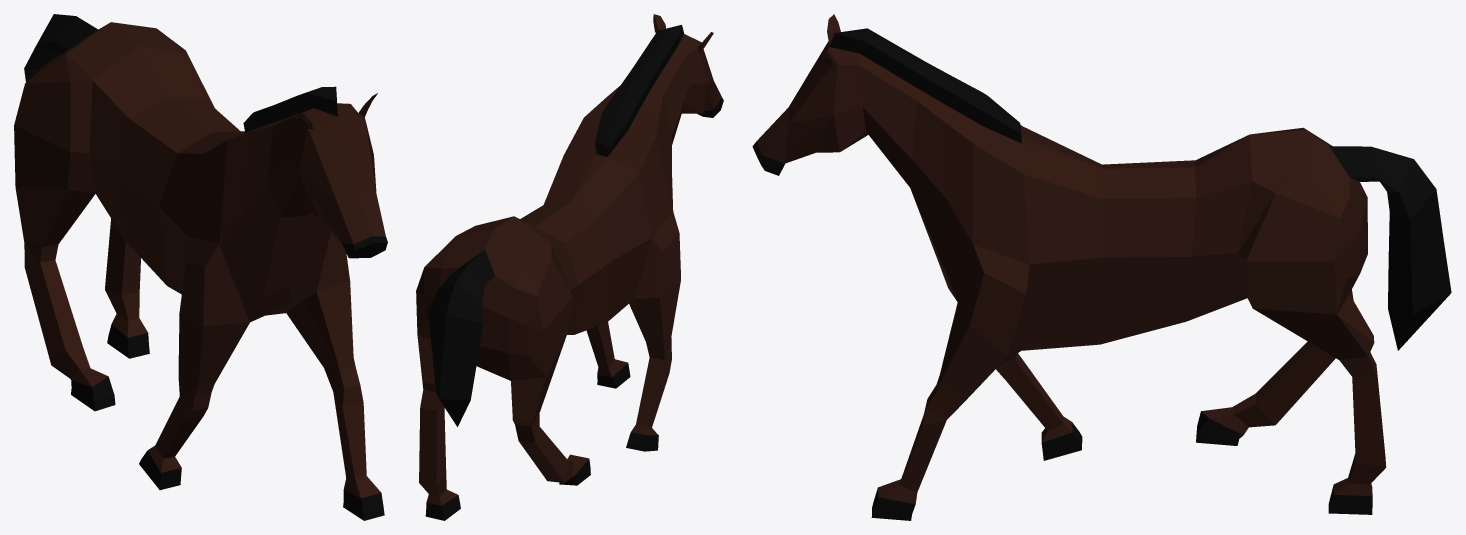
File: Horse_000001.obj
3 views of the same model, side by side, from view 1: azimuth 30°, elevation 25°; view 2: azimuth 150°, elevation 25°; view 3: azimuth 270°, elevation 25° (orthographic). The views are drawn at different scales.
Parts seen in each view (by area): view 1: Horse_Cylinder; view 2: Horse_Cylinder; view 3: Horse_Cylinder.
Boxes of the visible parts, x1,y1,x2,y2 form: Horse_Cylinder: (14,14,387,520); Horse_Cylinder: (416,14,723,520); Horse_Cylinder: (752,14,1451,520).
Bounding box in the file's own units: 2.57 × 6.66 × 9.24.
